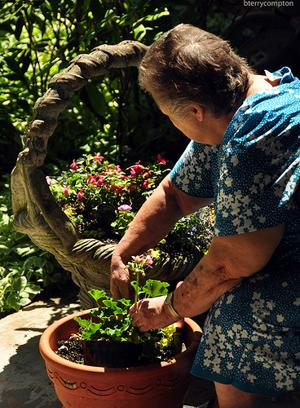person: (109, 19, 300, 408)
